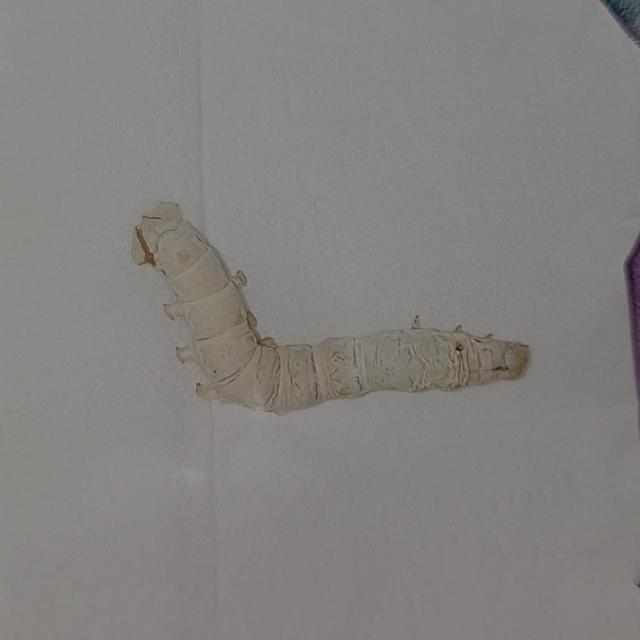Healthy: (112, 156, 542, 428)
